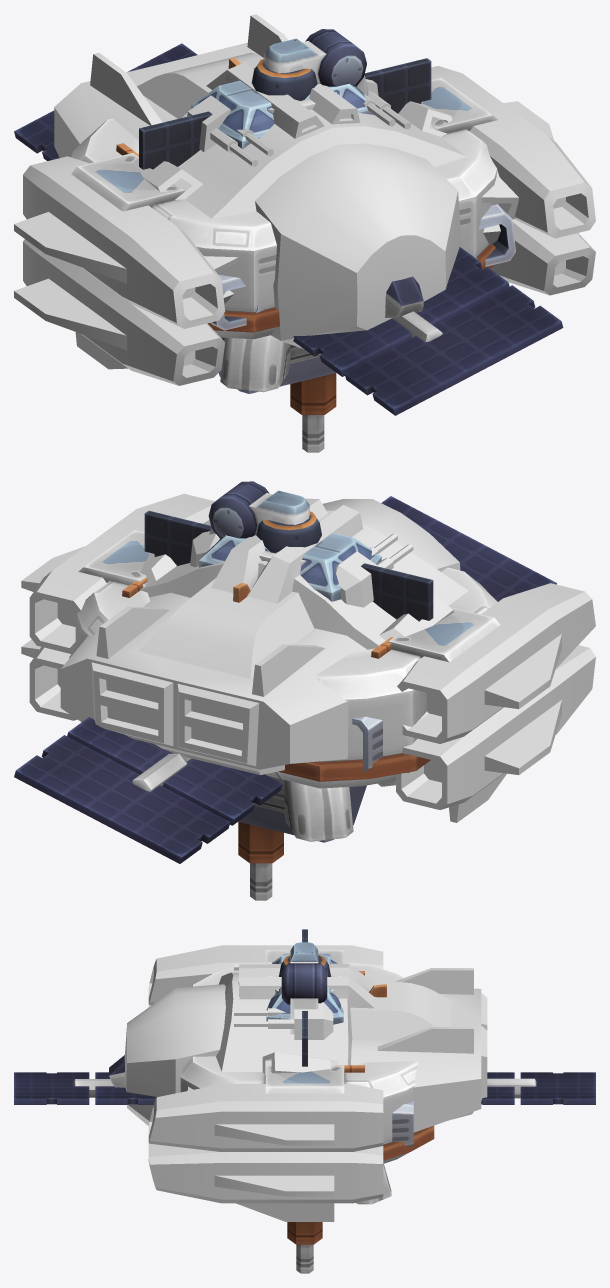
File: Assets01.fbx
3 views of the same model, one above another, from view 1: azimuth 30°, elevation 25°; view 2: azimuth 150°, elevation 25°; view 3: azimuth 270°, elevation 25° (orthographic). The views are drawn at different scales.
Parts seen in each view (by area): view 1: spaceship_l, station, drill, satelite, spaceship_m; view 2: spaceship_l, station, drill, satelite, spaceship_m; view 3: spaceship_l, station, drill, spaceship_m, satelite.
Part boxes in pixels (x1,y1,x2,y2): spaceship_l: (14,14,595,385); station: (14,43,563,452); drill: (220,29,369,392); satelite: (139,58,431,363); spaceship_m: (116,143,515,330); spaceship_l: (21,494,595,822); station: (14,496,556,900); drill: (208,481,395,841); satelite: (144,510,433,812); spaceship_m: (69,577,393,772); spaceship_l: (124,945,487,1221); station: (14,950,595,1273); drill: (281,942,391,1204); spaceship_m: (109,971,413,1146); satelite: (269,929,340,1066).
Size of the model in its own units: 460 by 356 by 601.
